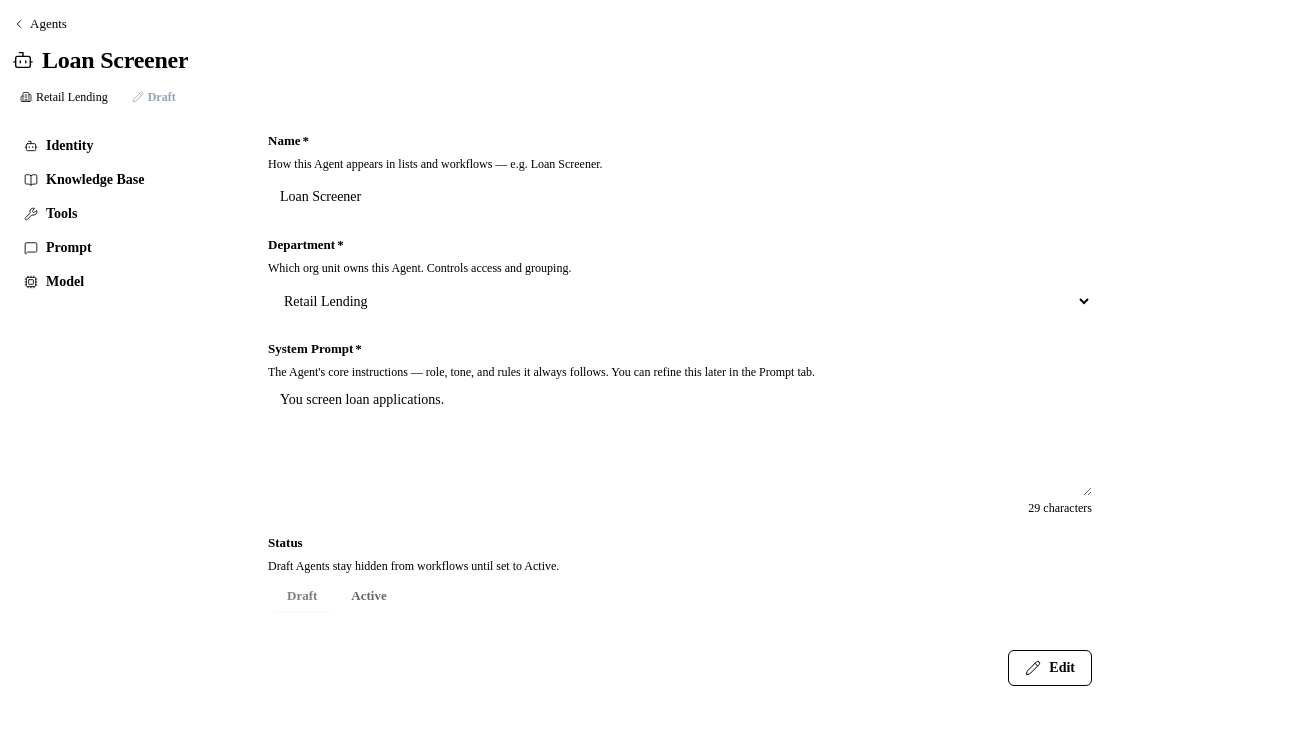
Test case: AgentDetailShell — Story 2.8 integration › shows the Department badge in the header; Identity tab is read-only until Edit (AC #8)
Expected: the element with test id "vaic-identity-tab" is shown, [268,130,1092,686]
Expected: the element with test id "vaic-department-badge" reads "Retail Lending", [36,90,108,104]
Click the button with test id "vaic-tab-edit": (1050, 668) [1008,650,1092,686]
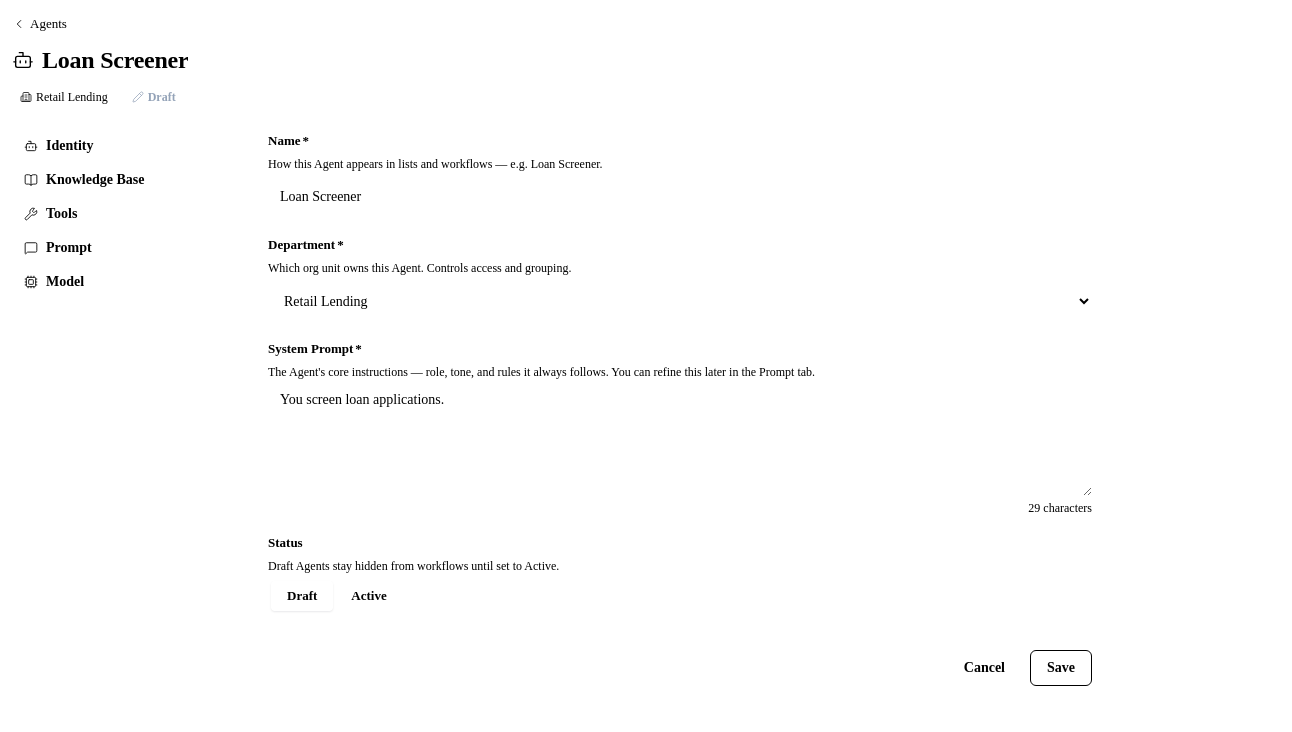
Result: the button with test id "vaic-tab-save" is shown at [1030,650,1092,686]
